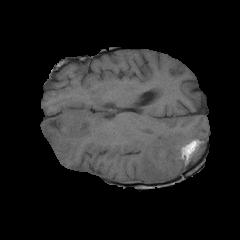glioma: (41, 109, 204, 182)
